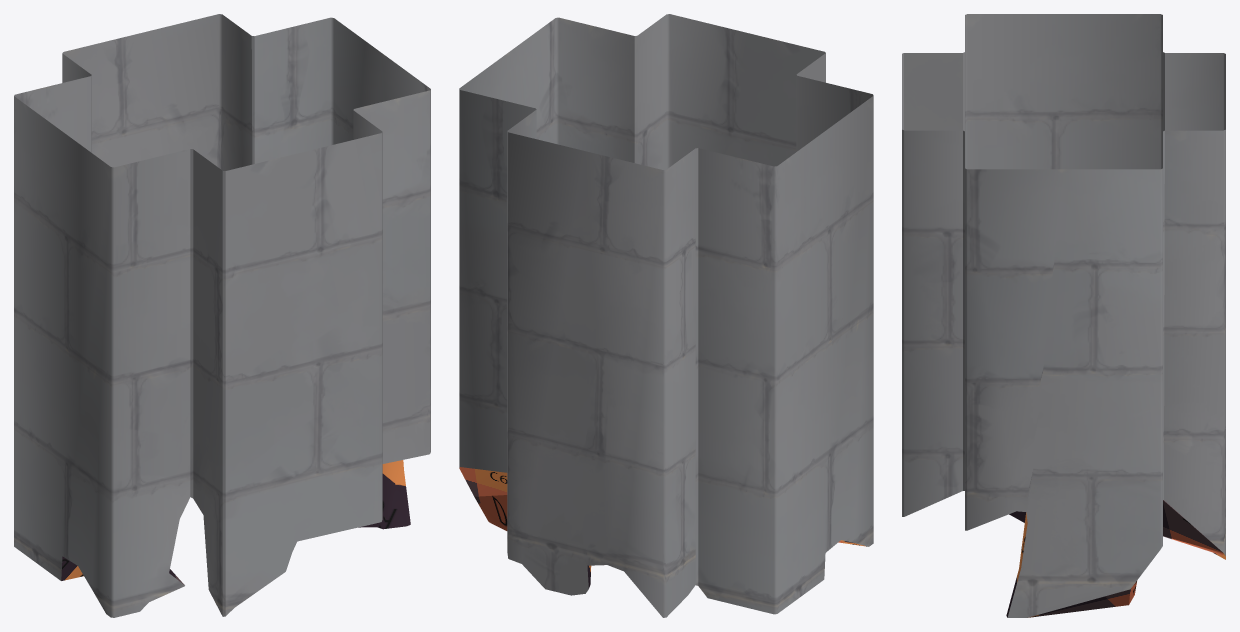
Rendered from SM_WallArchColumn_Broken.fbx.
3 renders of one model, left to right at view 1: azimuth 30°, elevation 25°; view 2: azimuth 150°, elevation 25°; view 3: azimuth 270°, elevation 25°, orthographic.
Parts seen in each view (by area): view 1: SM_WallArchColumn_Broken; view 2: SM_WallArchColumn_Broken; view 3: SM_WallArchColumn_Broken.
Part boxes in pixels (<box>): SM_WallArchColumn_Broken: <box>14,14,430,617</box>; SM_WallArchColumn_Broken: <box>459,14,873,617</box>; SM_WallArchColumn_Broken: <box>902,14,1225,617</box>.
Size of the model in its own units: 1.49 by 2 by 1.31.
